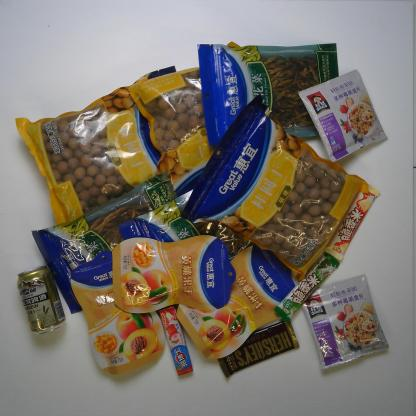Alcohol: (16, 262, 66, 338)
Candy: (156, 303, 195, 378)
Chocolate: (212, 314, 303, 380), (273, 251, 343, 326), (320, 180, 380, 263)
Dried Food: (177, 92, 375, 285), (12, 60, 205, 236), (27, 171, 189, 318), (127, 64, 262, 203), (114, 180, 278, 292), (194, 39, 341, 153)
Dried Fruit: (174, 239, 299, 362), (67, 250, 168, 378), (109, 232, 237, 317)
Instant Drink: (294, 270, 392, 372), (297, 66, 389, 164)
